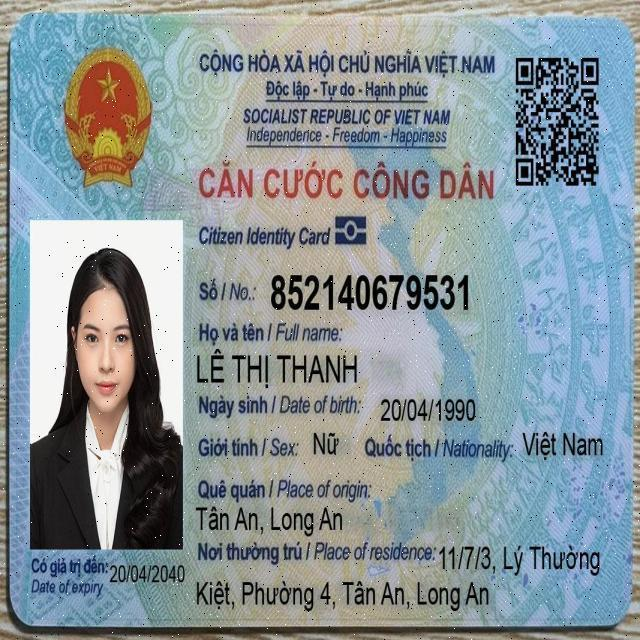current_place: (193, 575, 492, 614), (436, 539, 604, 581)
dob: (378, 393, 479, 426)
expire_date: (108, 561, 188, 588)
gender: (310, 427, 342, 462)
id: (267, 267, 472, 319)
name: (193, 345, 362, 393)
nationality: (520, 428, 606, 465)
origin_place: (192, 500, 346, 539)
